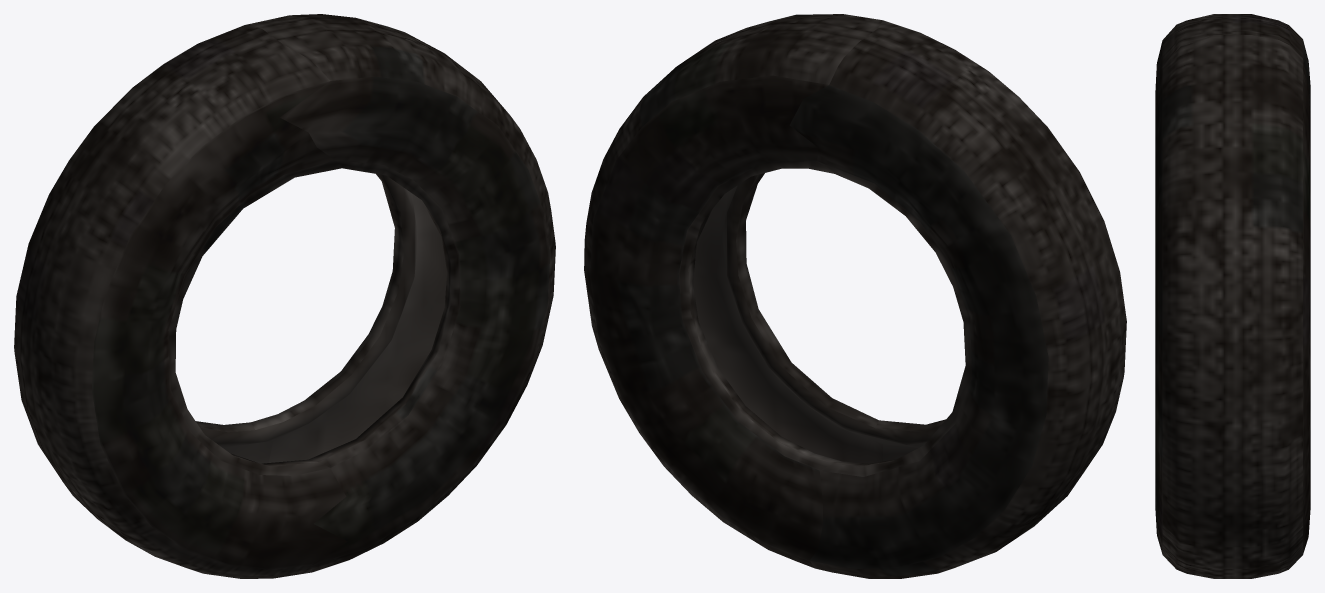
File: old_tyre.glb
3 renders of one model, left to right at view 1: azimuth 30°, elevation 25°; view 2: azimuth 150°, elevation 25°; view 3: azimuth 270°, elevation 25°, orthographic. The views are drawn at different scales.
Visible parts, largest first — view 1: old_tyre; view 2: old_tyre; view 3: old_tyre.
Part boxes in pixels (box(x1,y1,x2,y2)): old_tyre: box(14, 14, 555, 578); old_tyre: box(584, 14, 1126, 578); old_tyre: box(1155, 14, 1310, 578).
Size of the model in its own units: 0.6002 by 0.6 by 0.1651.
1 material, 1 textured.
